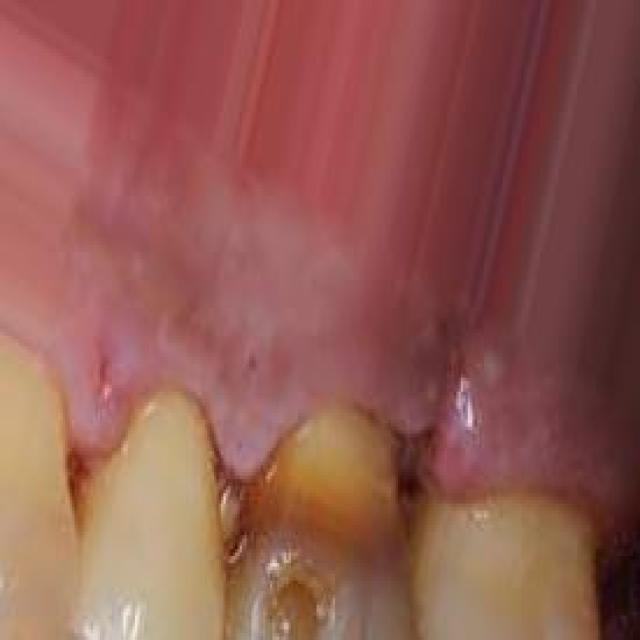caries: (243, 542, 344, 640)
